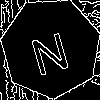N: (25, 23, 72, 77)
